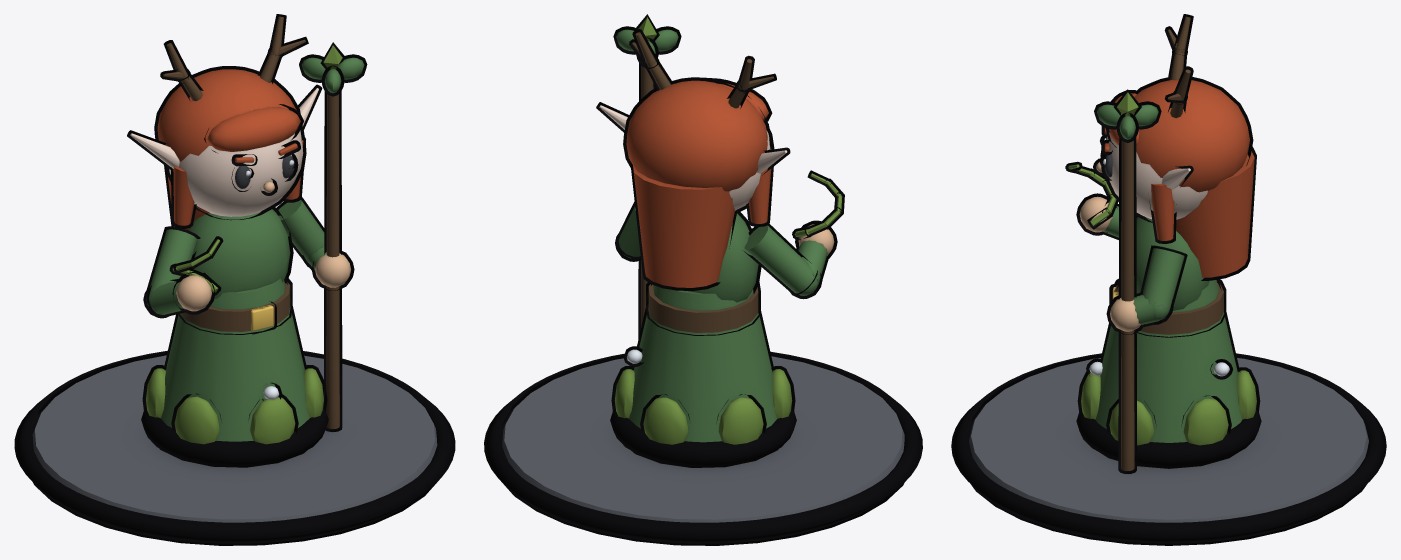
Rendered from druid.fbx.
The picture shows the model from 3 angles, left to right: view 1: azimuth 30°, elevation 25°; view 2: azimuth 150°, elevation 25°; view 3: azimuth 270°, elevation 25°; orthographic projection.
Visible parts, largest first — view 1: druid; view 2: druid; view 3: druid.
Part boxes in pixels (x1,y1,x2,y2): druid: (14,14,455,545); druid: (484,14,922,545); druid: (951,14,1386,545).
Size of the model in its own units: 1.58 by 1.67 by 1.58.
Materials: 2 (1 with a texture image).
